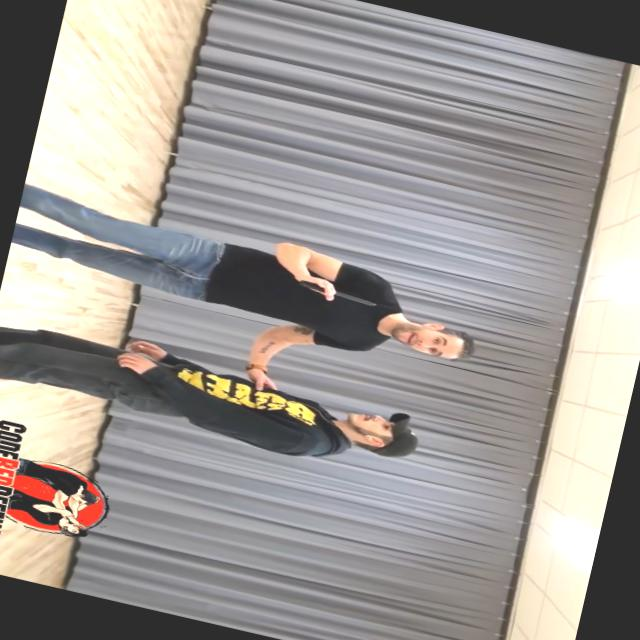knife: (295, 274, 381, 312)
